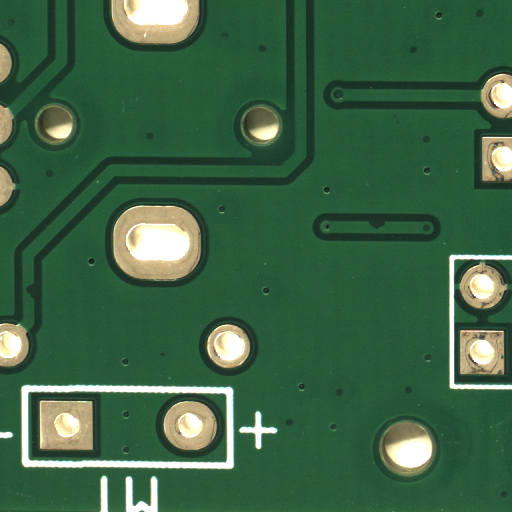Mouse_bite: (377, 224, 393, 235), (30, 291, 39, 306)
